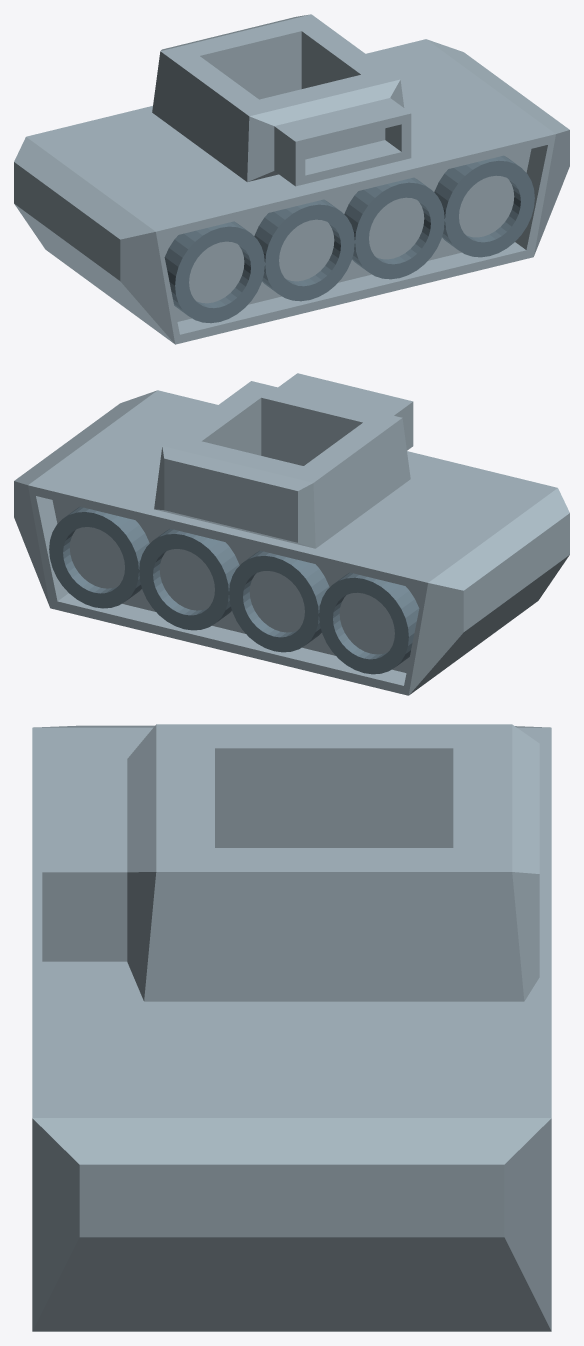
Rendered from TankAsset.fbx.
3 renders of one model, top to bottom at view 1: azimuth 30°, elevation 25°; view 2: azimuth 150°, elevation 25°; view 3: azimuth 270°, elevation 25°, orthographic. The views are drawn at different scales.
Visible parts, largest first — view 1: Tank; view 2: Tank; view 3: Tank.
Boxes of the visible parts, bbox=[...] form: Tank: bbox=[14, 14, 569, 344]; Tank: bbox=[14, 373, 569, 695]; Tank: bbox=[32, 724, 551, 1331].
Size of the model in its own units: 400 by 153 by 200.
